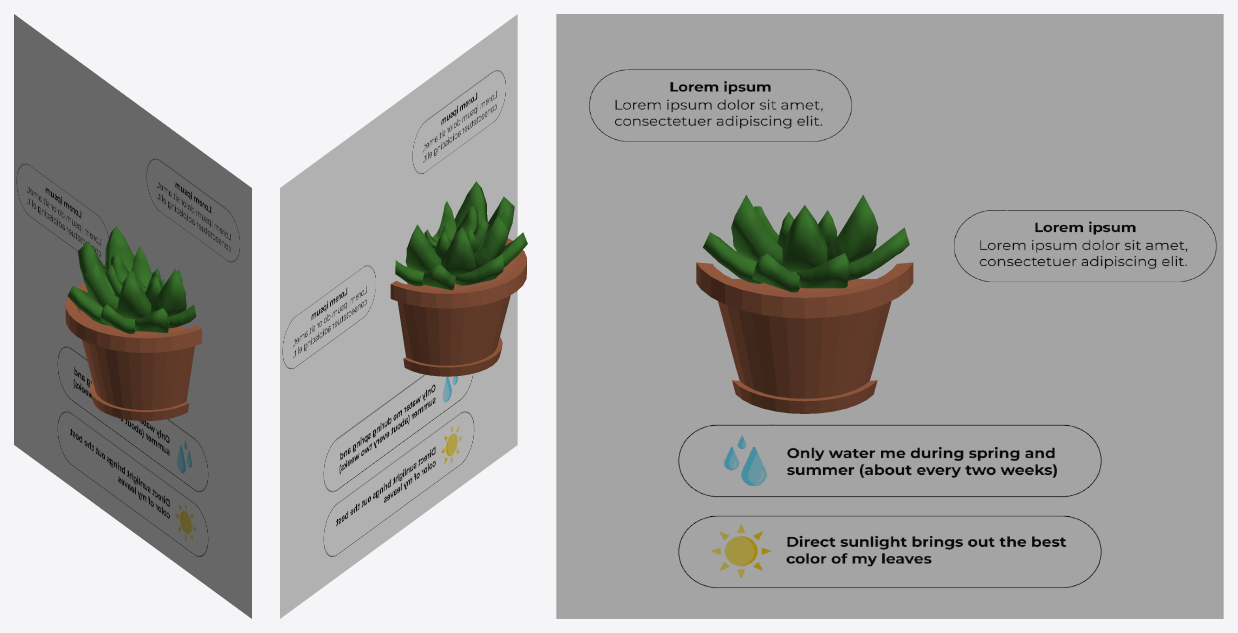
File: Succulent_with_text.glb
3 views of the same model, side by side, from view 1: azimuth 30°, elevation 25°; view 2: azimuth 150°, elevation 25°; view 3: azimuth 270°, elevation 25° (orthographic). The views are drawn at different scales.
Parts seen in each view (by area): view 1: UI Succulent-01, Cylinder, Cube.005, Cube.006, Cube.004, Cube.002, Cube.022, Cube.025, Cube.003, Cube.023, Cube.009, Cube.024; view 2: UI Succulent-01, Cylinder, Cube.003, Cube.002, Cube.004, Cube.022, Cube.006, Cube.021, Cube.005, Cube.023, Cube.020, Cube.014 (+1 smaller); view 3: UI Succulent-01, Cylinder, Cube, Cube.007, Cube.001, Cube.027, Cube.020, Cube.024, Cube.026.
Part boxes in pixels (x1=…): UI Succulent-01: x1=14, y1=14, x2=251, y2=618; Cylinder: x1=65, y1=283, x2=201, y2=420; Cube.005: x1=117, y1=271, x2=151, y2=319; Cube.006: x1=151, y1=269, x2=186, y2=316; Cube.004: x1=84, y1=260, x2=118, y2=312; Cube.002: x1=104, y1=226, x2=134, y2=272; Cube.022: x1=67, y1=285, x2=108, y2=325; Cube.025: x1=134, y1=308, x2=168, y2=332; Cube.003: x1=77, y1=241, x2=115, y2=294; Cube.023: x1=100, y1=304, x2=135, y2=333; Cube.009: x1=131, y1=246, x2=151, y2=288; Cube.024: x1=168, y1=305, x2=196, y2=328; UI Succulent-01: x1=280, y1=14, x2=517, y2=618; Cylinder: x1=390, y1=238, x2=526, y2=376; Cube.003: x1=441, y1=227, x2=475, y2=275; Cube.002: x1=405, y1=224, x2=441, y2=272; Cube.004: x1=473, y1=215, x2=507, y2=268; Cube.022: x1=454, y1=254, x2=504, y2=285; Cube.006: x1=454, y1=181, x2=487, y2=229; Cube.021: x1=422, y1=264, x2=455, y2=290; Cube.005: x1=478, y1=196, x2=514, y2=249; Cube.023: x1=501, y1=232, x2=527, y2=267; Cube.020: x1=395, y1=260, x2=423, y2=286; Cube.014: x1=437, y1=201, x2=456, y2=240; UI Succulent-01: x1=556, y1=14, x2=1223, y2=618; Cylinder: x1=696, y1=262, x2=913, y2=413; Cube: x1=782, y1=205, x2=827, y2=272; Cube.007: x1=731, y1=195, x2=782, y2=265; Cube.001: x1=827, y1=195, x2=878, y2=263; Cube.027: x1=796, y1=253, x2=849, y2=288; Cube.020: x1=848, y1=227, x2=909, y2=280; Cube.024: x1=703, y1=232, x2=762, y2=283; Cube.026: x1=752, y1=253, x2=799, y2=292.
Size of the model in its own units: 5.68 by 16.84 by 16.84.
3 materials, 1 textured.
